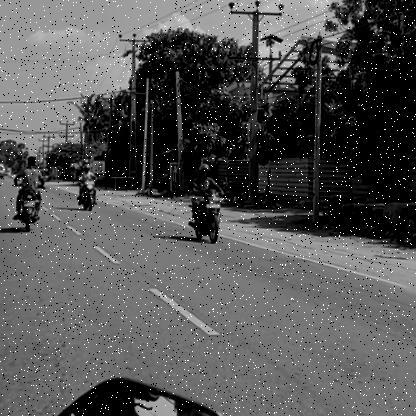motorcycle: (186, 186, 229, 246), (12, 186, 46, 234), (75, 180, 103, 216)
